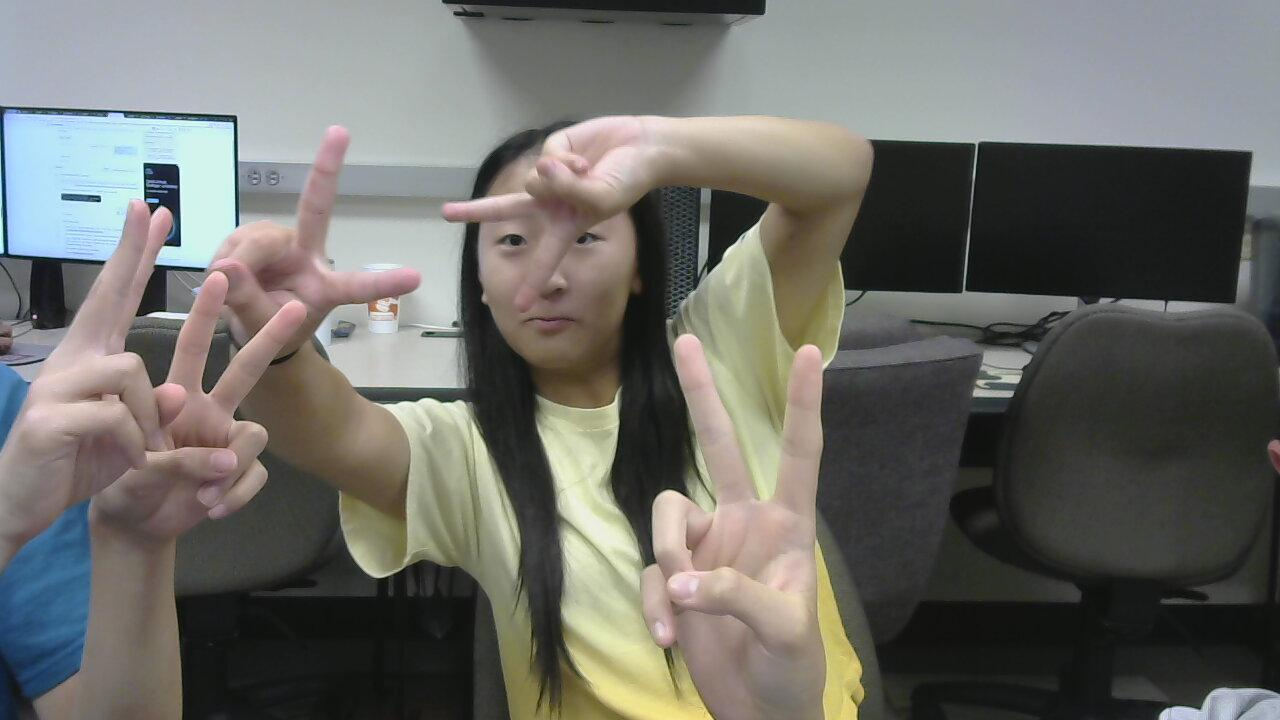peace: (629, 350, 849, 720), (226, 128, 439, 365), (114, 275, 264, 562), (461, 95, 647, 325), (44, 200, 166, 490)
